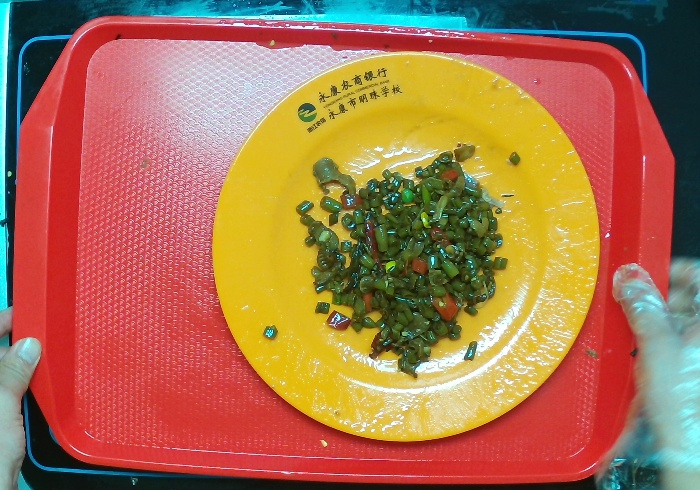YKMZ-Ju_Se_Mian_Pan: (208, 49, 603, 447)
